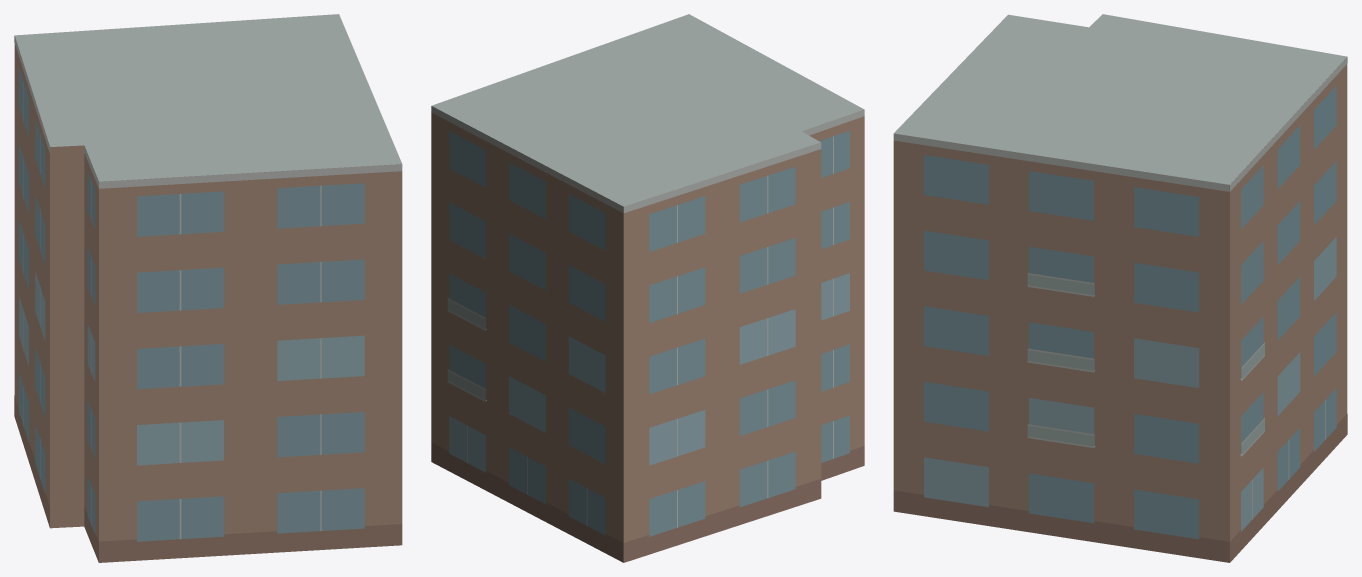
The model's file is survey-upis-32942681.glb.
3 views of the same model, side by side, from view 1: azimuth 30°, elevation 25°; view 2: azimuth 150°, elevation 25°; view 3: azimuth 270°, elevation 25° (orthographic). The views are drawn at different scales.
Visible parts, largest first — view 1: survey-upis-32942681.tmp; view 2: survey-upis-32942681.tmp; view 3: survey-upis-32942681.tmp.
Part boxes in pixels (box(x1,y1,x2,y2)): survey-upis-32942681.tmp: box(14, 14, 402, 562); survey-upis-32942681.tmp: box(431, 14, 864, 562); survey-upis-32942681.tmp: box(893, 14, 1347, 562).
Size of the model in its own units: 12.71 by 13.1 by 14.27.
